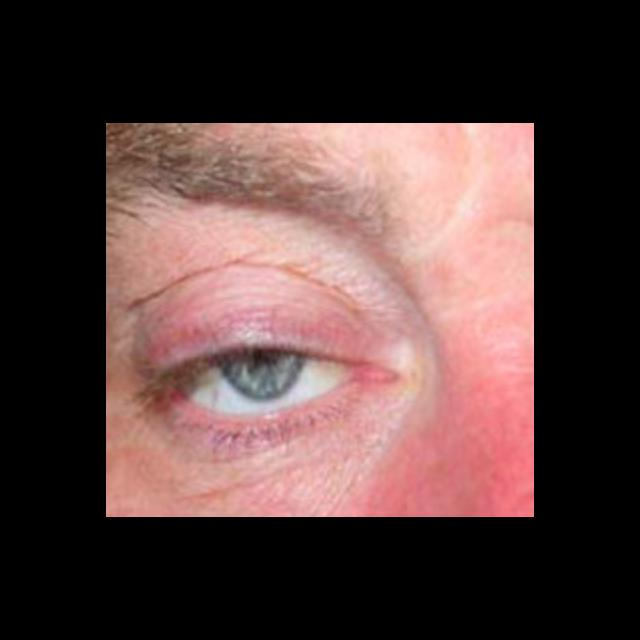eye: (174, 352, 353, 418)
iris: (219, 357, 308, 400)
